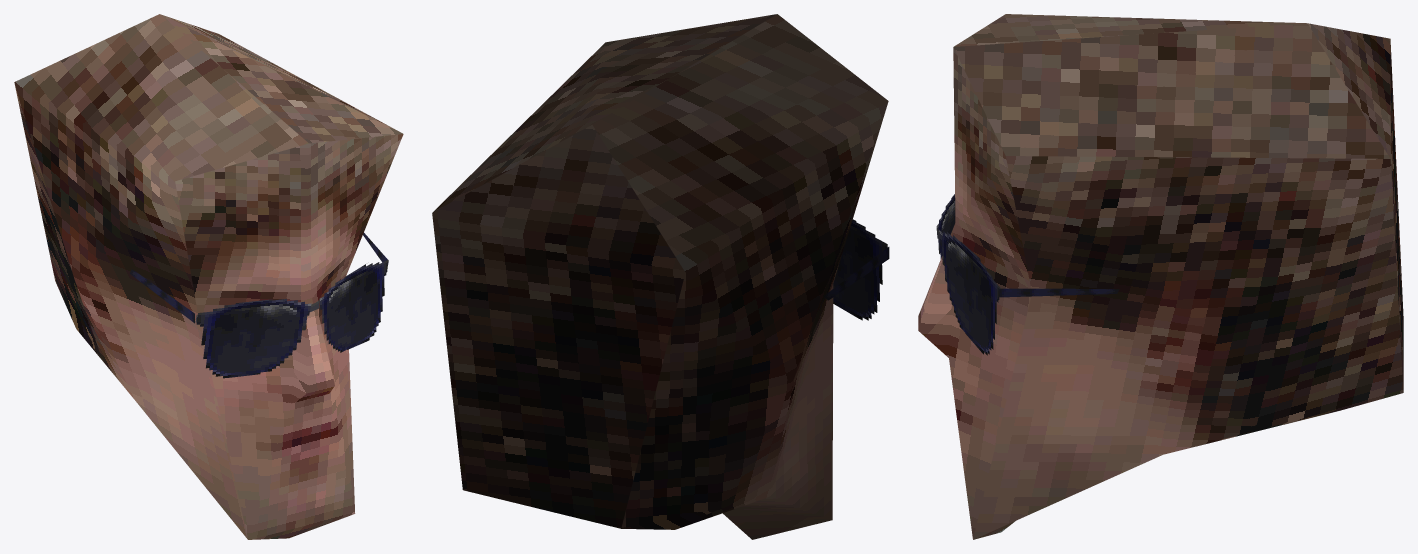
The model's file is CheadmarkZ.obj.
The picture shows the model from 3 angles, left to right: view 1: azimuth 30°, elevation 25°; view 2: azimuth 150°, elevation 25°; view 3: azimuth 270°, elevation 25°; orthographic projection. The views are drawn at different scales.
Size of the model in its own units: 150 by 257 by 222.
Materials: 7 (7 with a texture image).
